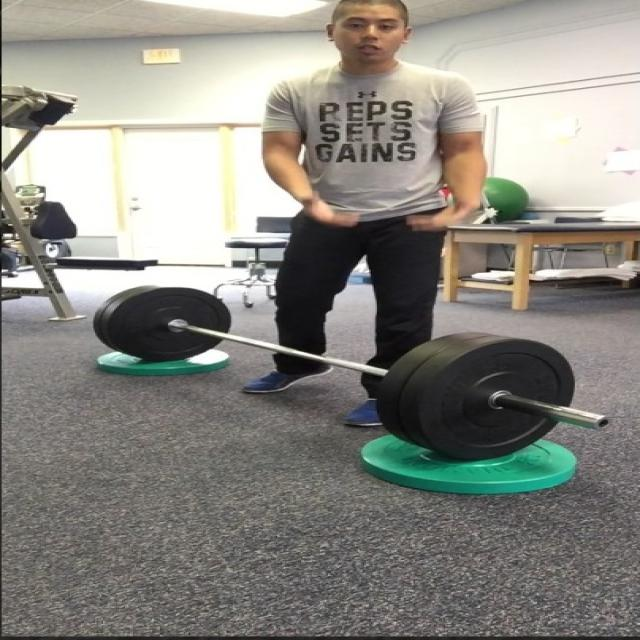deadlift: (82, 0, 640, 479)
